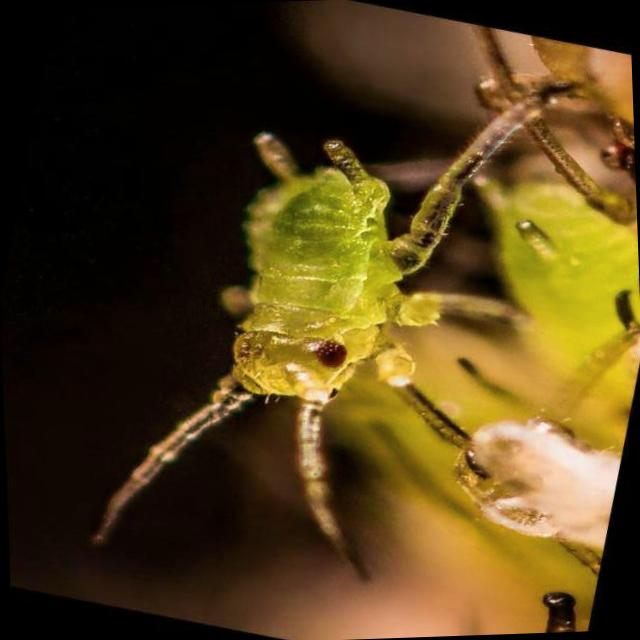aphid: (56, 15, 586, 640)
